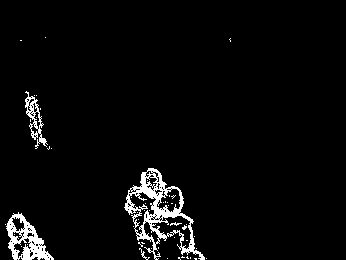person: (145, 183, 205, 260), (23, 89, 54, 150)
